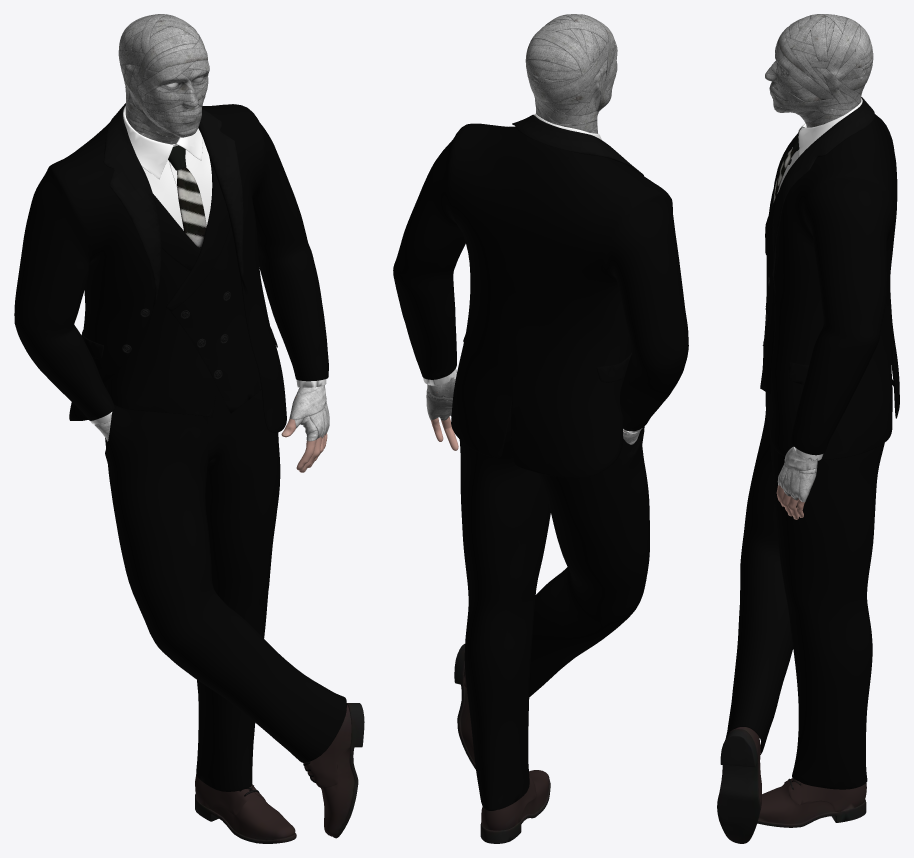
File: Bravo-hambg.glb
The picture shows the model from 3 angles, left to right: view 1: azimuth 30°, elevation 25°; view 2: azimuth 150°, elevation 25°; view 3: azimuth 270°, elevation 25°; orthographic projection. The views are drawn at different scales.
Parts seen in each view (by area): view 1: Bravo (×2); view 2: Bravo (×2); view 3: Bravo (×2).
Boxes of the visible parts, x1,y1,x2,y2 form: Bravo (×2): (14,14,364,843); Bravo (×2): (393,14,688,843); Bravo (×2): (717,14,899,843).
Size of the model in its own units: 0.6175 by 1.67 by 0.3609.
Materials: 2 (2 with a texture image).
